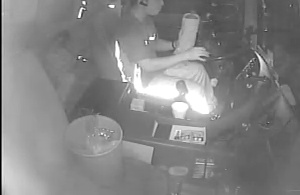paper: (151, 120, 207, 146)
